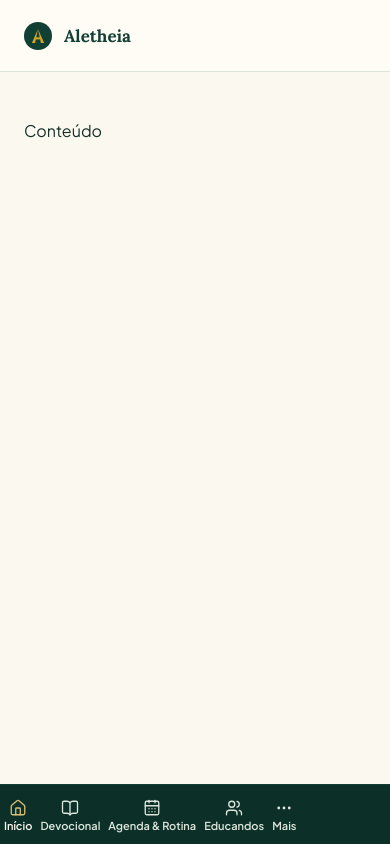
Test: ProductShell adapter › splits navigation into four primary tab-bar items and the rest as overflow
Expected: the link with test id "appshell-tab-bar-home" is shown, [4,799,32,832]
Expected: the link with test id "appshell-tab-bar-devotional" is shown, [40,799,100,832]
Click the button "Mais".
click(284, 814)  # box [268,785,300,843]
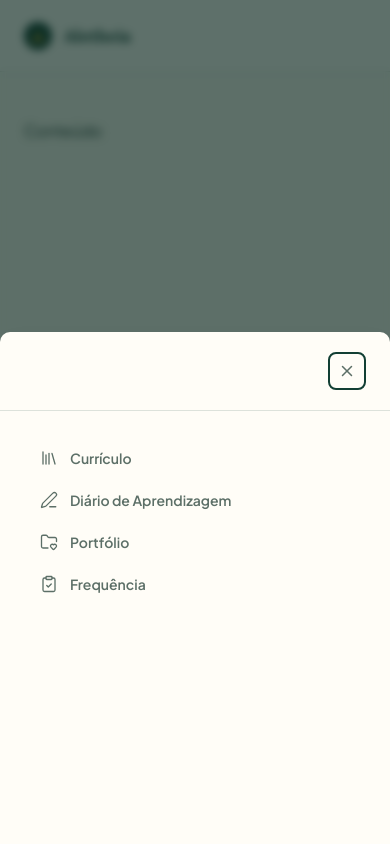
Now the link "Currículo" is shown, box [40,449,132,467]
